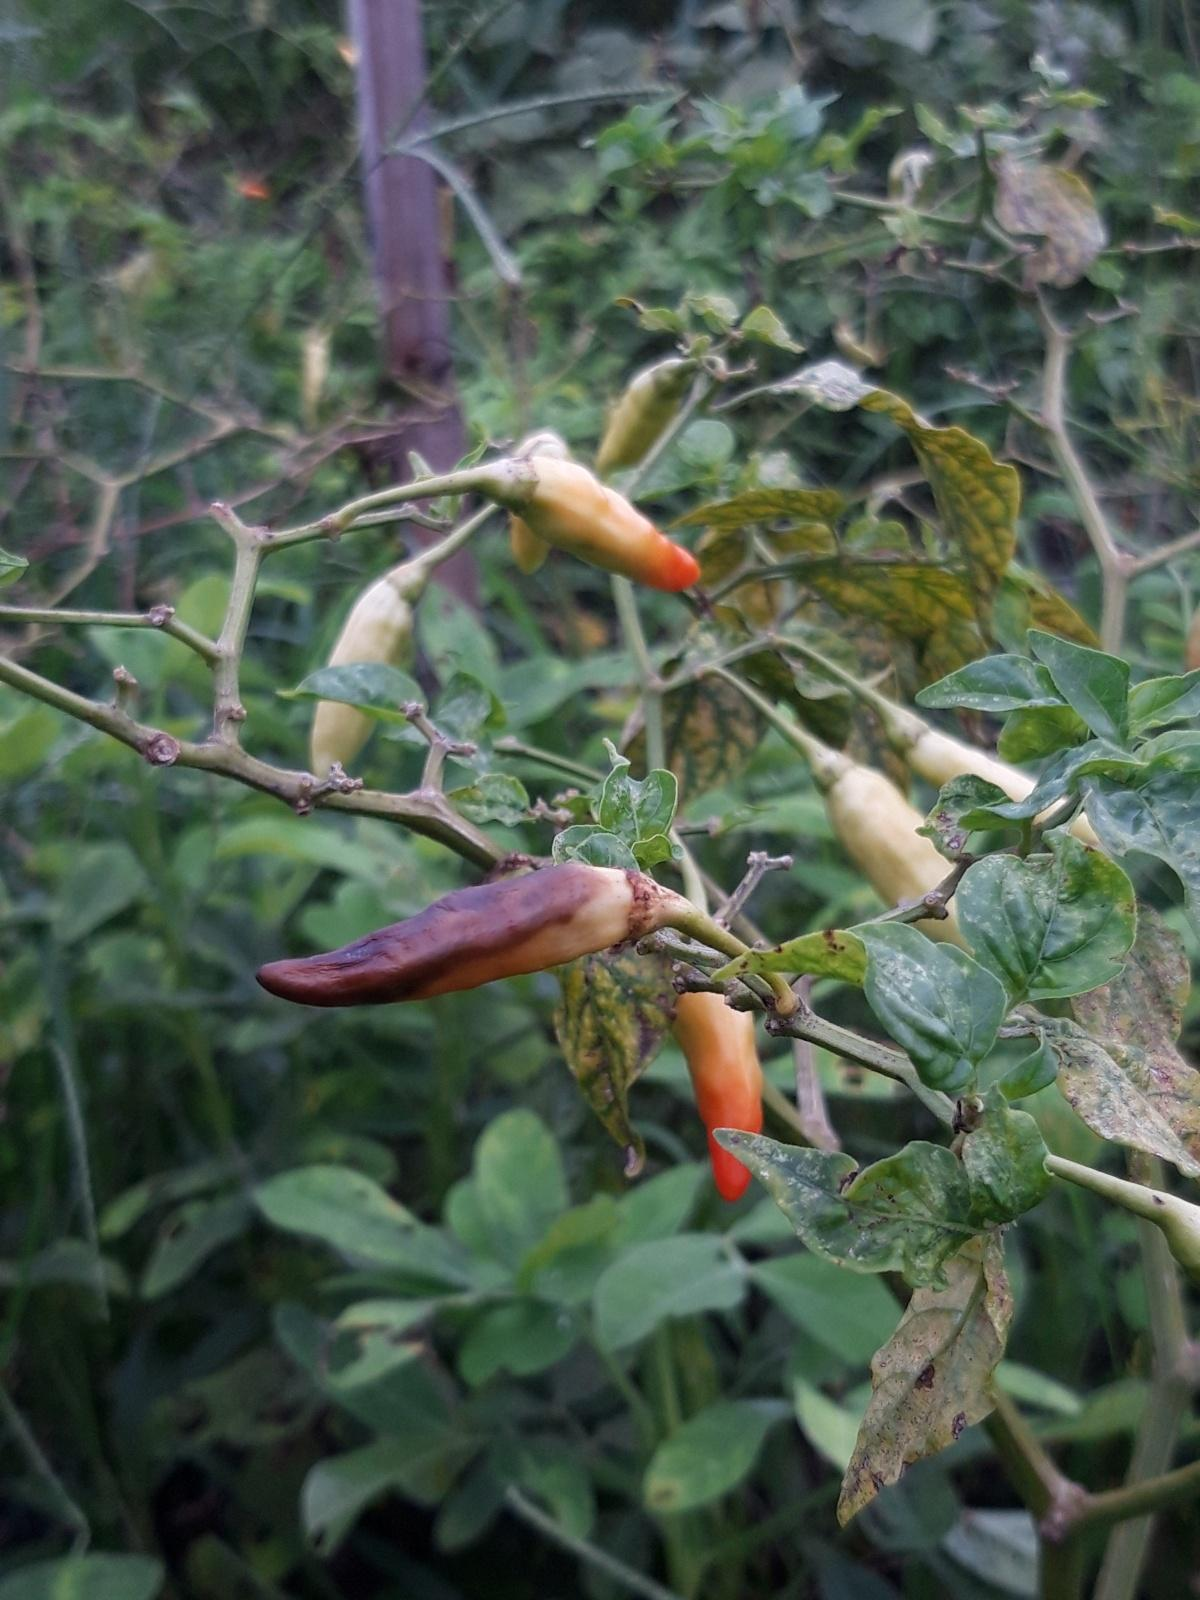cabai_normal: (824, 746, 976, 951), (485, 454, 702, 595), (308, 566, 427, 784), (674, 986, 765, 1198)
lalat_buah: (252, 864, 692, 1008)
